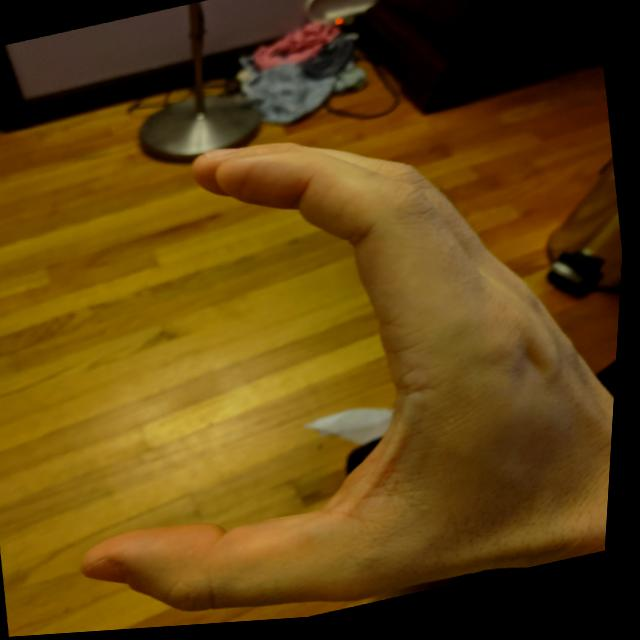C: (15, 64, 634, 637)
